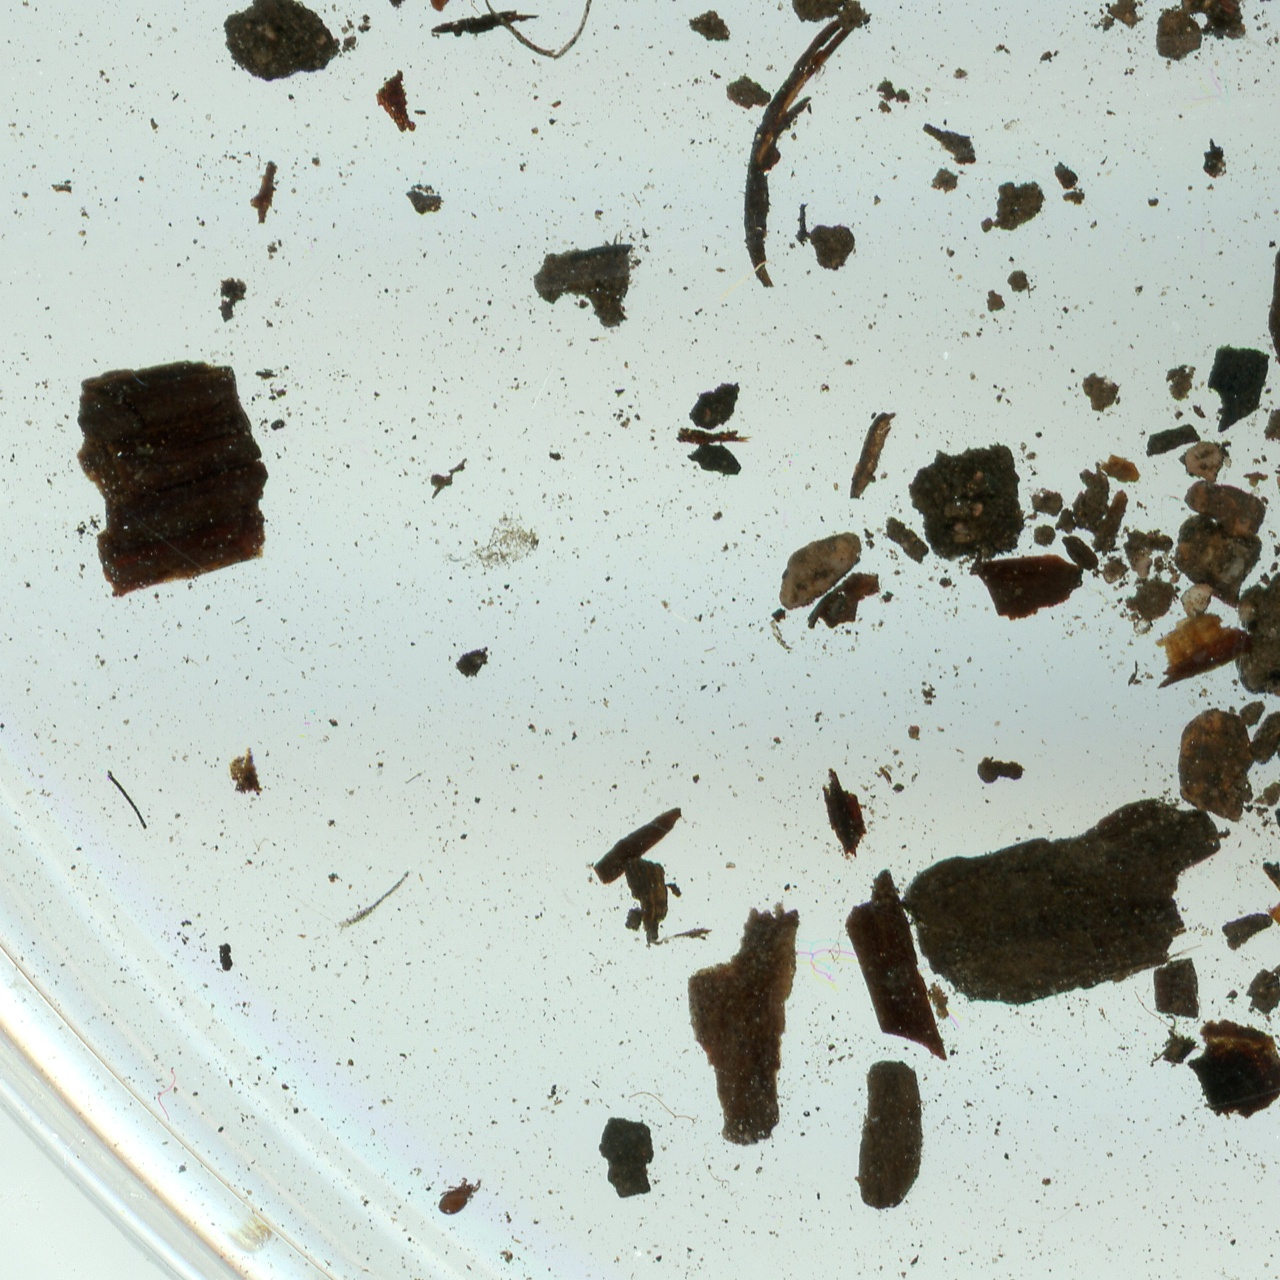arthropod: (436, 1173, 483, 1218)
